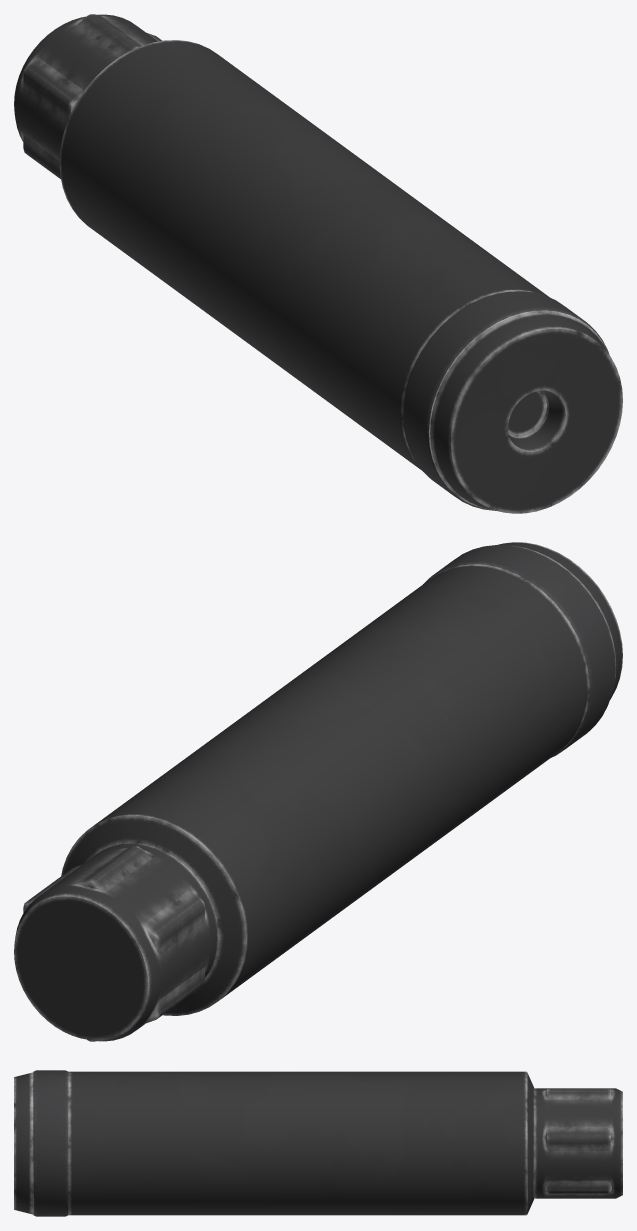
File: suppressor.glb
The picture shows the model from 3 angles, top to bottom: view 1: azimuth 30°, elevation 25°; view 2: azimuth 150°, elevation 25°; view 3: azimuth 270°, elevation 25°; orthographic projection. The views are drawn at different scales.
Visible parts, largest first — view 1: body; view 2: body; view 3: body.
Boxes of the visible parts, <box> form: body: <box>14,14,622,513</box>; body: <box>14,542,622,1041</box>; body: <box>14,1070,622,1216</box>.
Size of the model in its own units: 0.0396 by 0.0396 by 0.165.
1 material, 1 textured.
